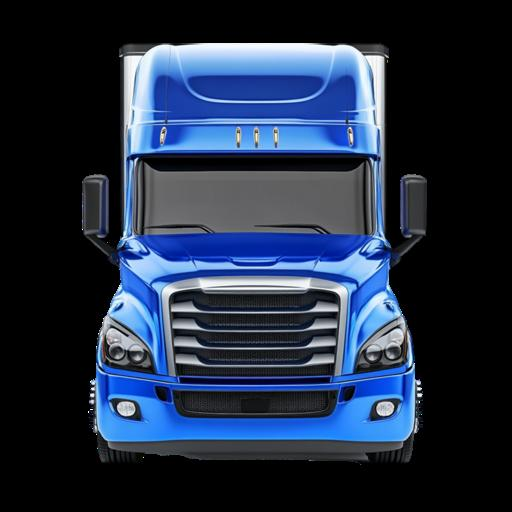truck: (78, 37, 433, 465)
